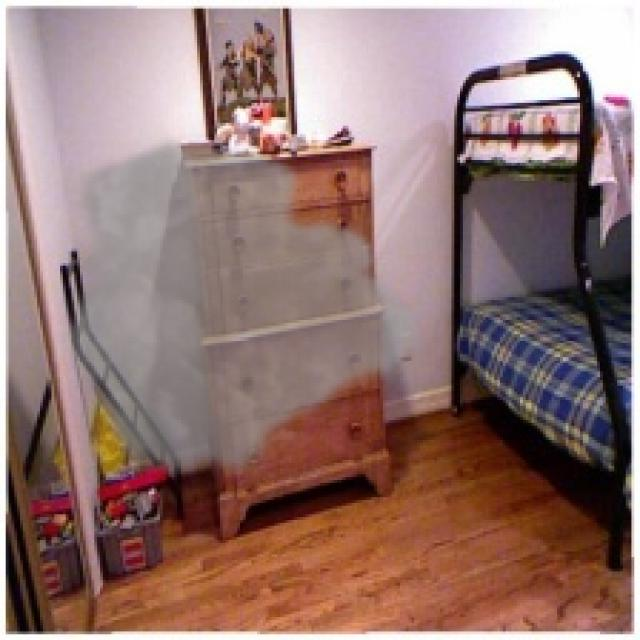smoke: (63, 134, 431, 486)
